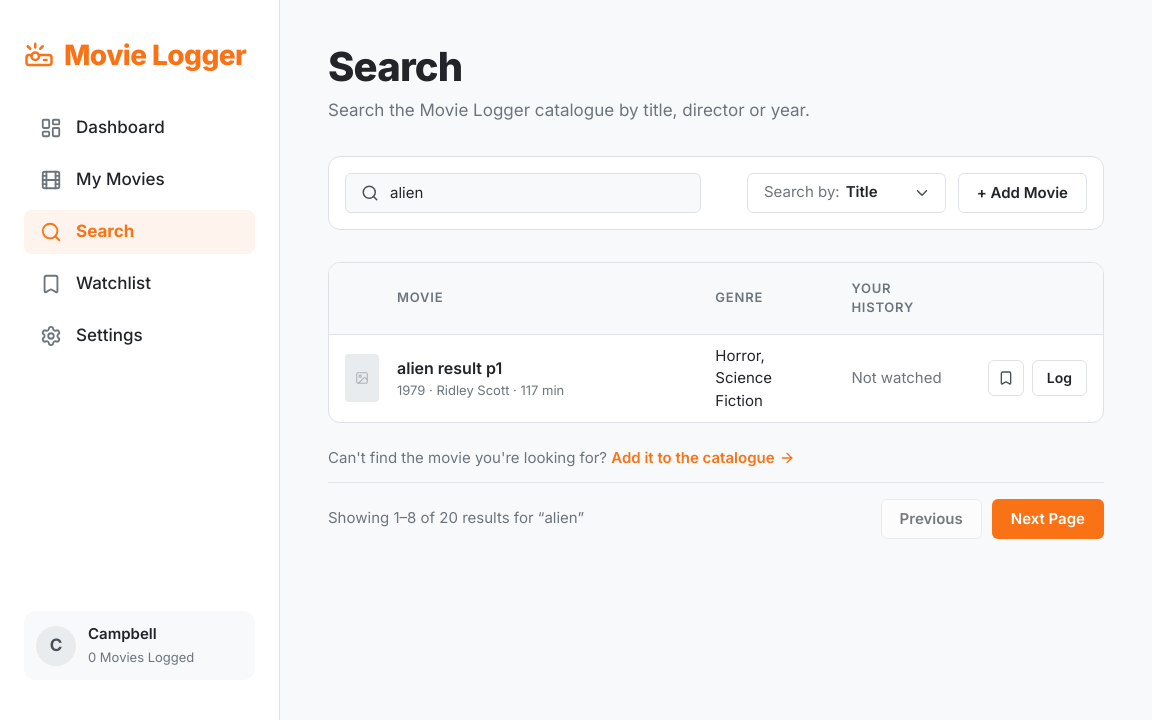
Test: Search page › pages through results and goes back to page 1 when the search changes
expect the link "alien result p1" is shown: met, box [397, 358, 502, 378]
expect the text "Showing 1–8 of 20 results for “alien”" is shown: met, box [328, 507, 584, 530]
Click the button "Next Page" at (1048,518), box [992, 498, 1104, 538]
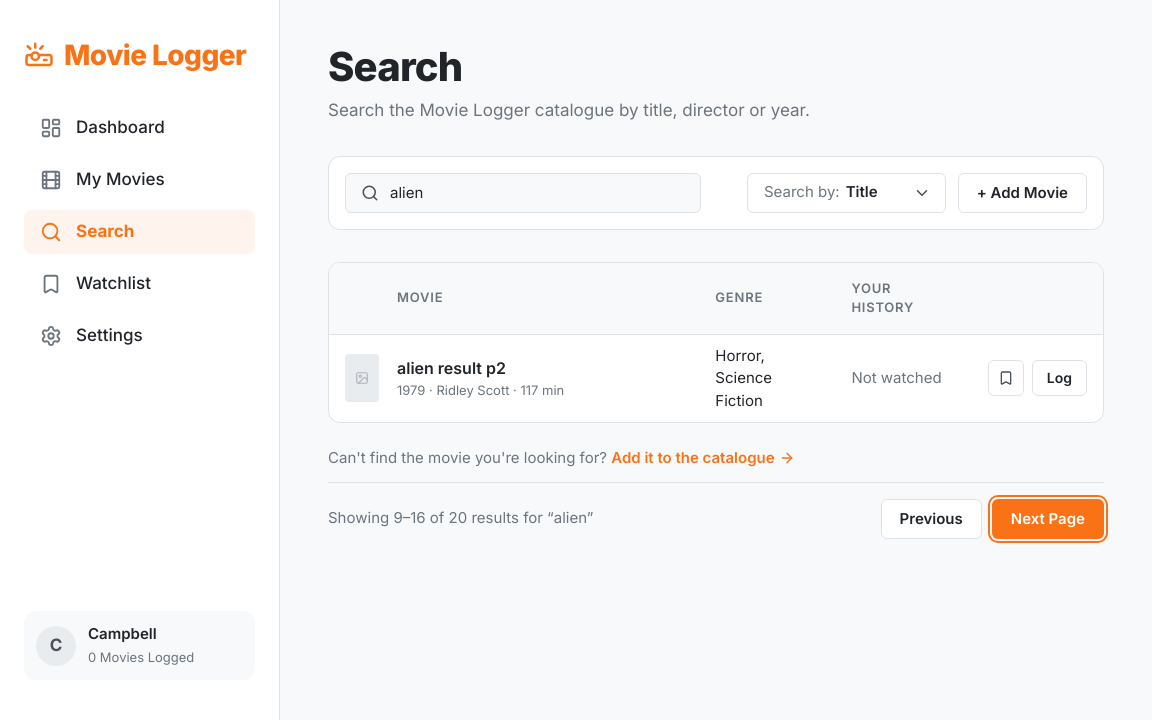
expect the link "alien result p2" is shown: met, box [397, 358, 506, 378]
Type "s" into the search field at (523,192), box [345, 172, 701, 212]
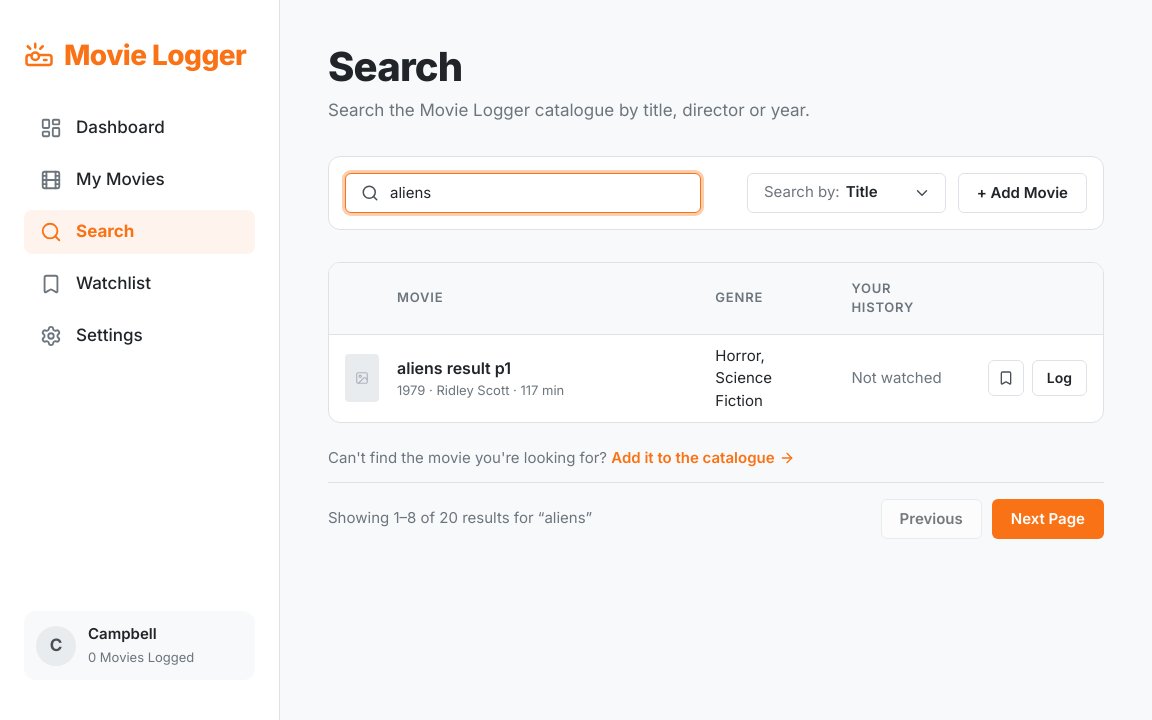
expect the link "aliens result p1" is shown: met, box [397, 358, 511, 378]
